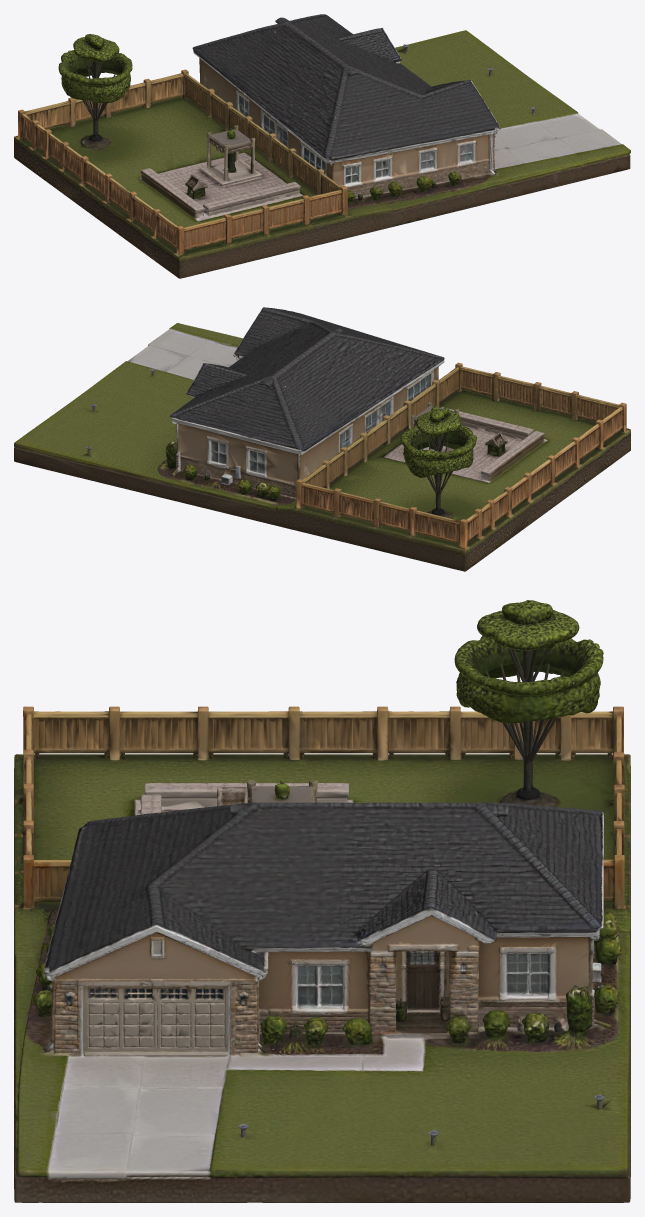
Rendered from house-lite.glb.
3 renders of one model, top to bottom at view 1: azimuth 30°, elevation 25°; view 2: azimuth 150°, elevation 25°; view 3: azimuth 270°, elevation 25°, orthographic. The views are drawn at different scales.
Visible parts, largest first — view 1: tripo_node_7bc1e30a-34ef-4eaf-94e9-f37ae049d12a; view 2: tripo_node_7bc1e30a-34ef-4eaf-94e9-f37ae049d12a; view 3: tripo_node_7bc1e30a-34ef-4eaf-94e9-f37ae049d12a.
Boxes of the visible parts, bbox=[...] form: tripo_node_7bc1e30a-34ef-4eaf-94e9-f37ae049d12a: bbox=[14, 14, 630, 278]; tripo_node_7bc1e30a-34ef-4eaf-94e9-f37ae049d12a: bbox=[14, 307, 630, 571]; tripo_node_7bc1e30a-34ef-4eaf-94e9-f37ae049d12a: bbox=[14, 600, 630, 1202].
Size of the model in its own units: 0.9787 by 0.2666 by 0.6207.
1 material, 1 textured.
